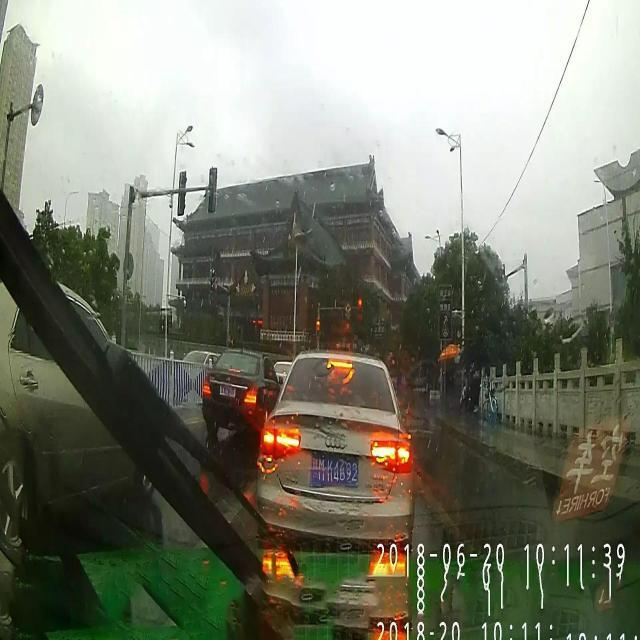car: (0, 274, 165, 552), (255, 350, 412, 569), (200, 346, 284, 440)
